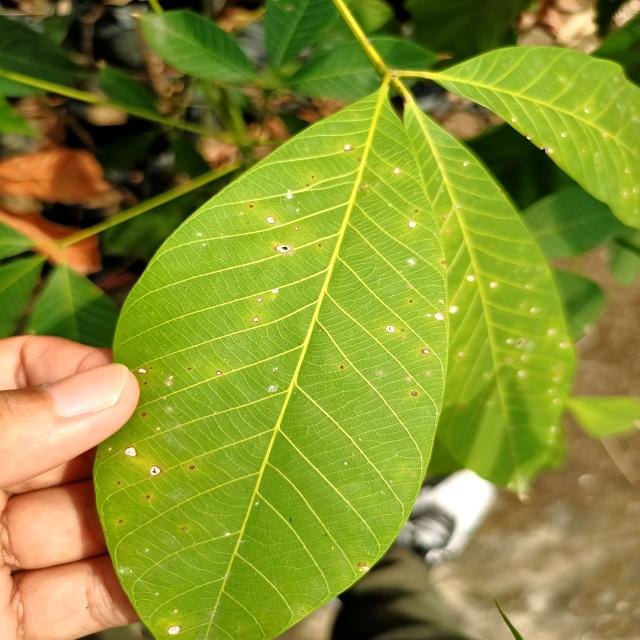Colletotrichum: (249, 205, 254, 208), (306, 184, 309, 187), (318, 244, 321, 247), (312, 176, 314, 178)
